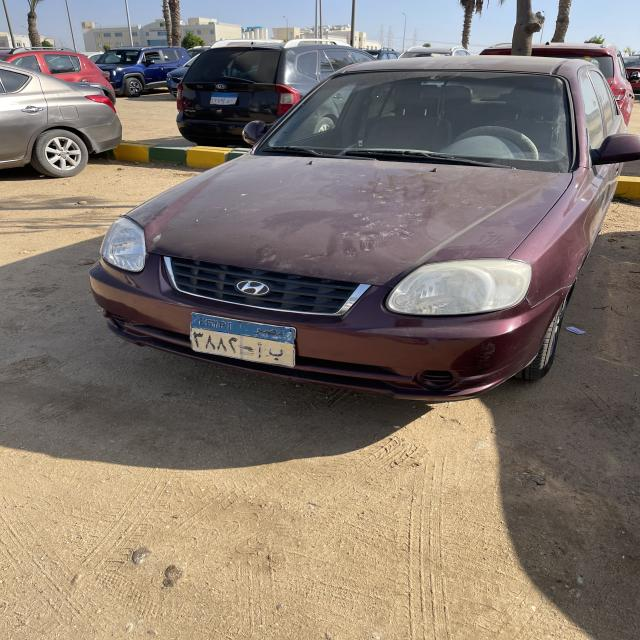License Plate: (190, 311, 295, 366), (211, 92, 238, 104)
